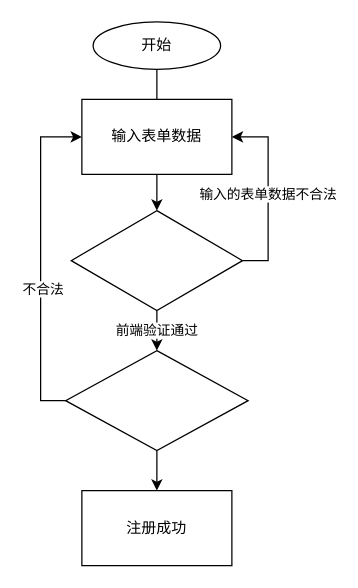
Some shapes in this 358 by 588 pixel diagram are drawn without their labels. Each missing label, with the centre of its shape:
"前端判断表单数据 是否正确" belongs at [156,260].
"后台判断提交的 字符串是否合法" belongs at [156,400].
